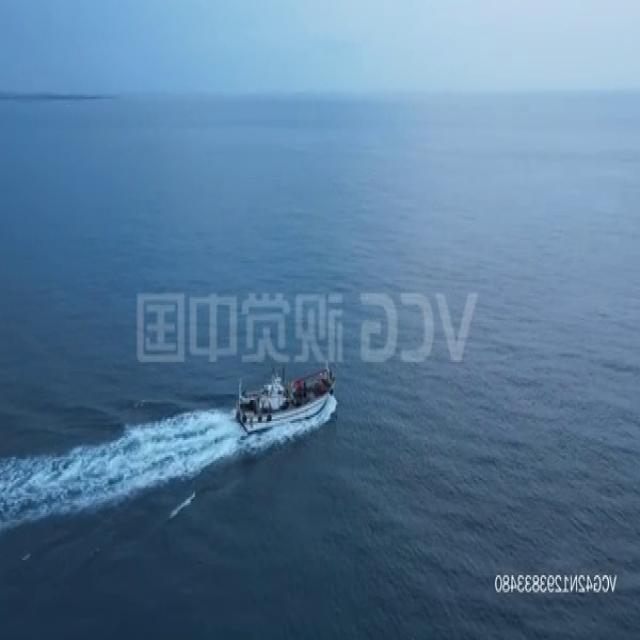houseboat: (232, 359, 337, 437)
